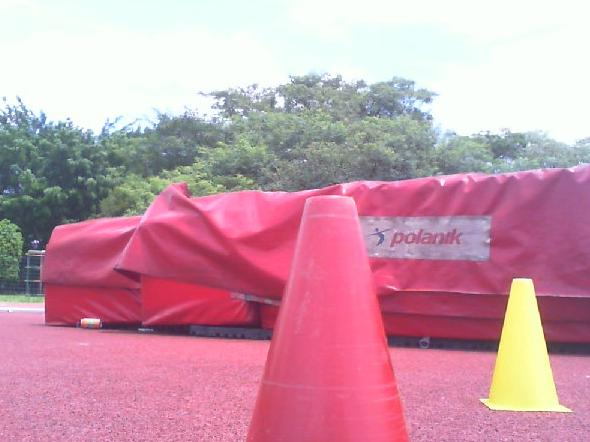0 cone: (239, 194, 419, 442), (480, 278, 571, 413)
